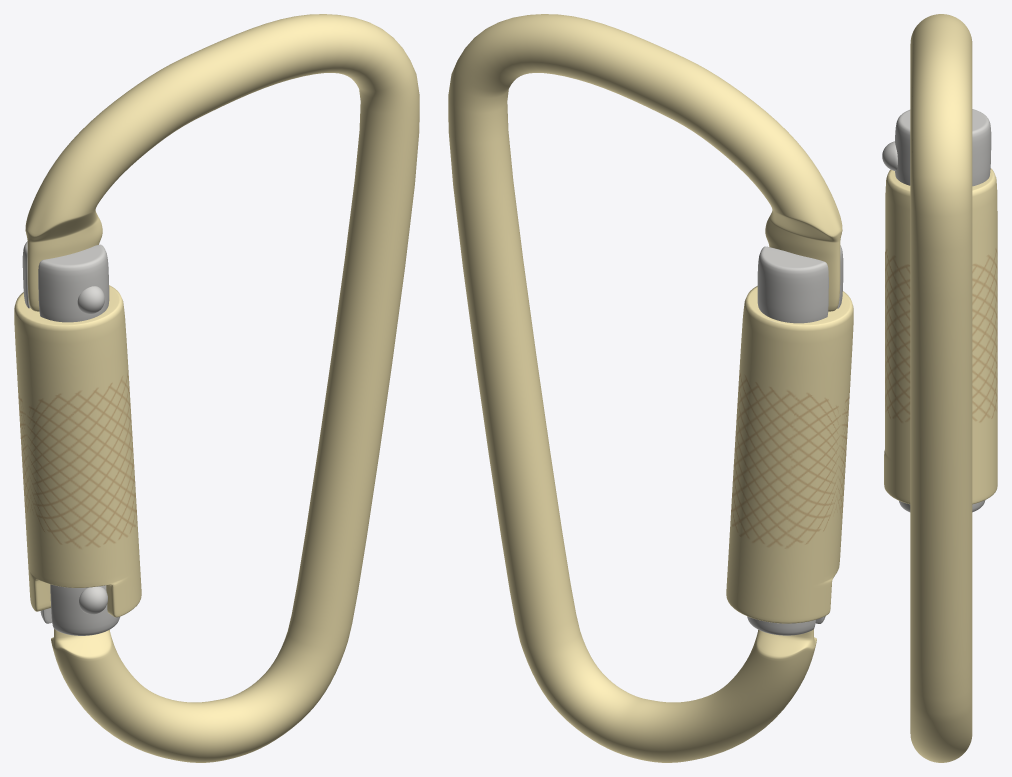
The picture shows the model from 3 angles, left to right: view 1: azimuth 30°, elevation 25°; view 2: azimuth 150°, elevation 25°; view 3: azimuth 270°, elevation 25°; orthographic projection.
Parts seen in each view (by area): view 1: hook, base_lock, lock; view 2: hook, base_lock, lock; view 3: hook, base_lock, lock.
Part boxes in pixels (x1,y1,x2,y2): hook: (25,14,419,762); base_lock: (14,285,141,617); lock: (22,241,119,635); hook: (448,14,842,762); base_lock: (726,286,853,623); lock: (747,245,843,635); hook: (910,14,972,762); base_lock: (884,168,997,504); lock: (882,109,991,512).
Bounding box in the file's own units: 8.14 × 14.22 × 2.05.
1 material, 1 textured.
